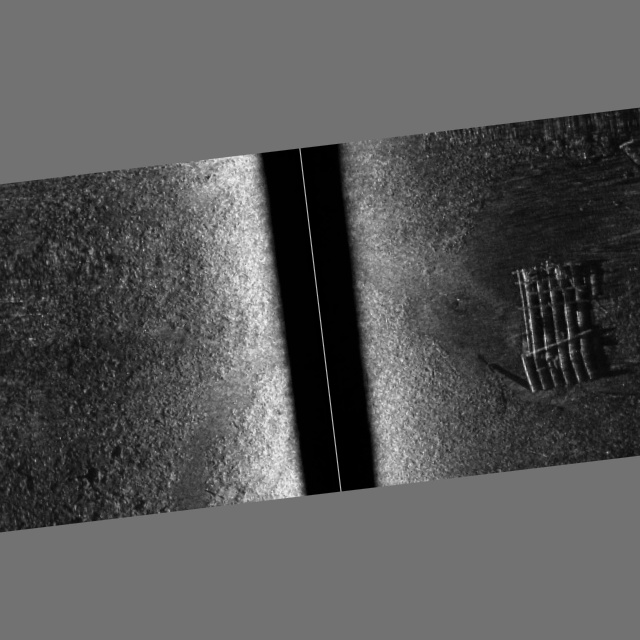Shipwreck: (495, 136, 640, 394)
